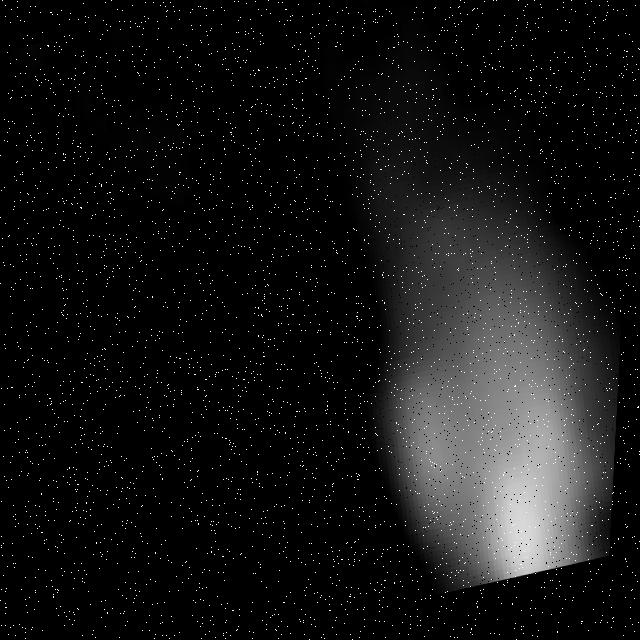person: (333, 108, 636, 610)
